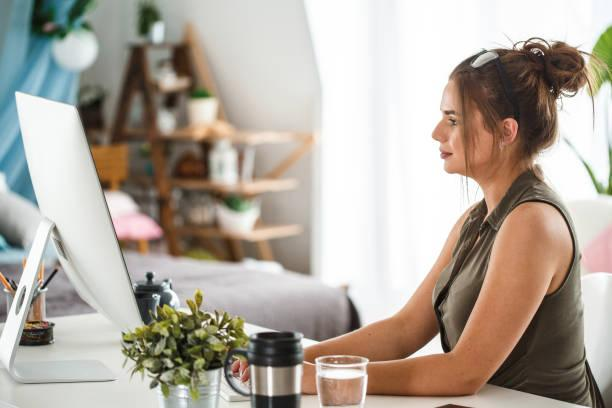Good Sitting Posture: (228, 35, 606, 407)
